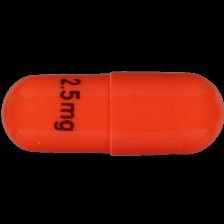63187-503: (0, 0, 224, 224)
